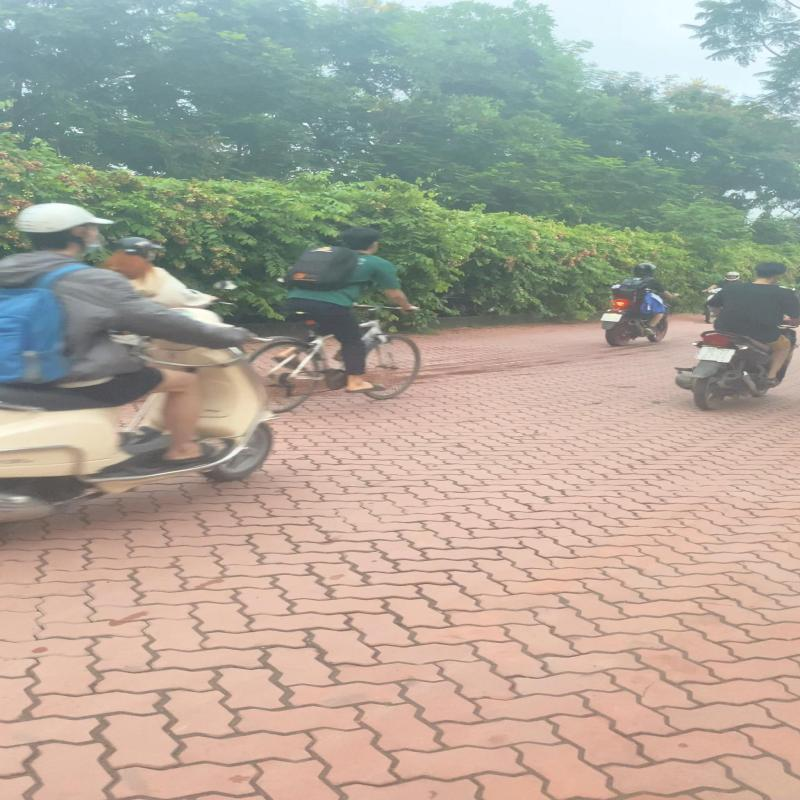licenseplate: (696, 346, 737, 363)
motorcyclist: (669, 256, 800, 411)
nohelmet: (752, 261, 788, 284)
